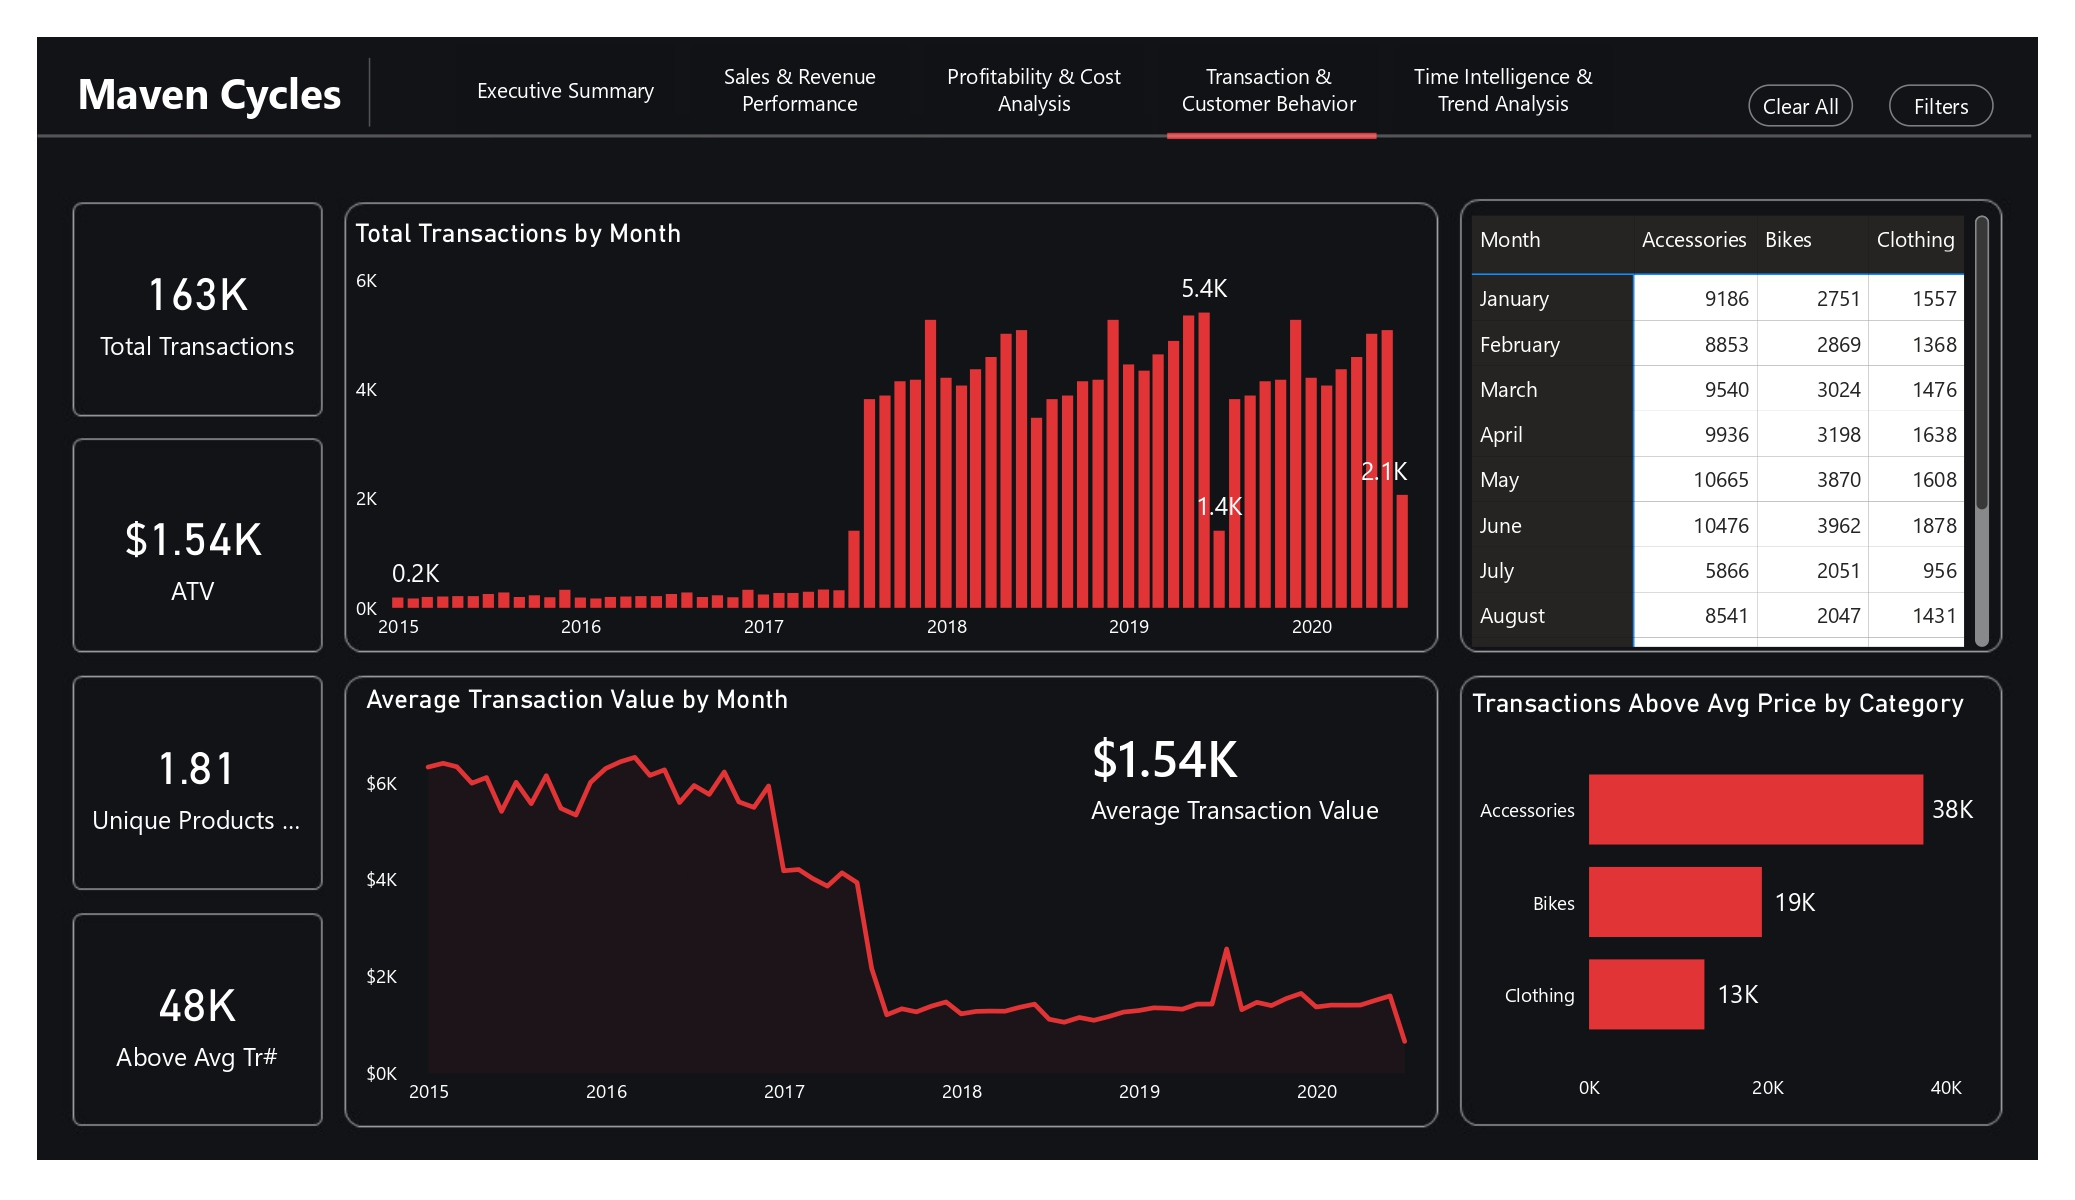

Layout of this report page (visuals, bound fields, positions):
{"tool":"powerbi","page":{"name":" Transaction & Customer Behavior ","canvas":[1280,720],"ordinal":3},"visuals":[{"type":"pageNavigator","box":[291,49.6,710,15.7],"z":0,"group":"g1"},{"type":"card","fields":{"Values":["Measure_Table.Transactions Above Avg Price"]},"box":[24.6,565.6,154.1,124.6],"z":0},{"type":"pageNavigator","box":[268.1,5.3,743.2,55.7],"z":1000,"group":"g1"},{"type":"card","fields":{"Values":["Measure_Table.Total Transactions"]},"box":[24.6,109.8,154.1,126.2],"z":1000},{"type":"card","fields":{"Values":["Measure_Table.Average Transaction Value"]},"box":[16.6,263.9,165.6,131.1],"z":2000},{"type":"card","fields":{"Values":["Measure_Table.Unique Products Sold Monthly"]},"box":[26.2,416.4,150.8,119.7],"z":3000},{"type":"lineClusteredColumnComboChart","fields":{"Category":["DimCalendar.Start_of_Month"],"Y":["Measure_Table.Total Transactions"]},"box":[198.4,114.8,695.1,280.3],"z":4000},{"type":"clusteredBarChart","fields":{"Category":["Dim_Product_Categories.ProductCategory"],"Y":["Measure_Table.Transactions Above Avg Price"]},"box":[913.1,416.4,341,273.8],"z":5000},{"type":"lineChart","fields":{"Category":["DimCalendar.Start_of_Month"],"Y":["Measure_Table.Average Transaction Value"]},"box":[204.9,413.1,688.5,280.3],"z":6000},{"type":"cardVisual","fields":{"Data":["Measure_Table.Average Transaction Value"]},"box":[645.1,413.7,249,113.7],"z":7000},{"type":"pivotTable","fields":{"Columns":["Dim_Product_Categories.ProductCategory"],"Rows":["DimCalendar.Month_Name"],"Values":["Measure_Table.Total Transactions"]},"box":[912.9,109.4,341.2,285.9],"z":8000},{"type":"actionButton","box":[21.4,4.3,201.2,61.4],"z":9000},{"type":"shape","box":[191.5,12.8,42.6,44.7],"z":10000},{"type":"group","id":"g1","title":"Group 1","box":[268.1,5.3,743.2,60.1],"z":11000},{"type":"actionButton","box":[1184.6,29.9,67.2,26.9],"z":12000},{"type":"actionButton","box":[1095,29.9,67.2,26.9],"z":13000},{"type":"shape","box":[0,56.4,1275.5,13.8],"z":15001}]}

Visuals, with their boxes on the page's 1280x720 design canvas (x1, y1, x2, y2). These are canvas units, not pixel positions in the 2075x1200 screenshot, which may show the page scaled, cropped or inside an application window:
pageNavigator: 291/50/1001/65
card - Measure_Table.Transactions Above Avg Price: 25/566/179/690
pageNavigator: 268/5/1011/61
card - Measure_Table.Total Transactions: 25/110/179/236
card - Measure_Table.Average Transaction Value: 17/264/182/395
card - Measure_Table.Unique Products Sold Monthly: 26/416/177/536
lineClusteredColumnComboChart - DimCalendar.Start_of_Month x Measure_Table.Total Transactions: 198/115/894/395
clusteredBarChart - Dim_Product_Categories.ProductCategory x Measure_Table.Transactions Above Avg Price: 913/416/1254/690
lineChart - DimCalendar.Start_of_Month x Measure_Table.Average Transaction Value: 205/413/893/693
cardVisual - Measure_Table.Average Transaction Value: 645/414/894/527
pivotTable - Dim_Product_Categories.ProductCategory x DimCalendar.Month_Name: 913/109/1254/395
actionButton: 21/4/223/66
shape: 192/13/234/58
"Group 1" group: 268/5/1011/65
actionButton: 1185/30/1252/57
actionButton: 1095/30/1162/57
shape: 0/56/1276/70
